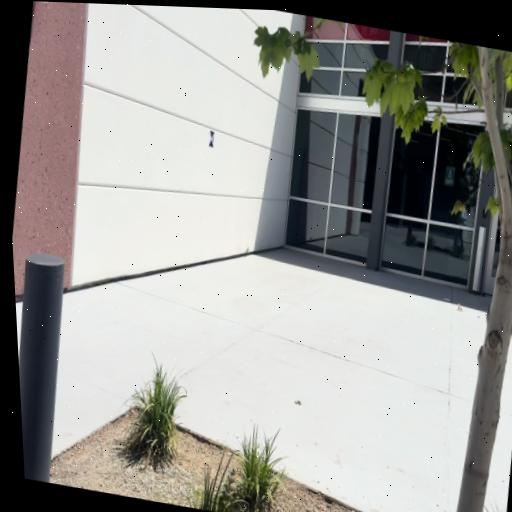target4: (207, 129, 216, 147)
